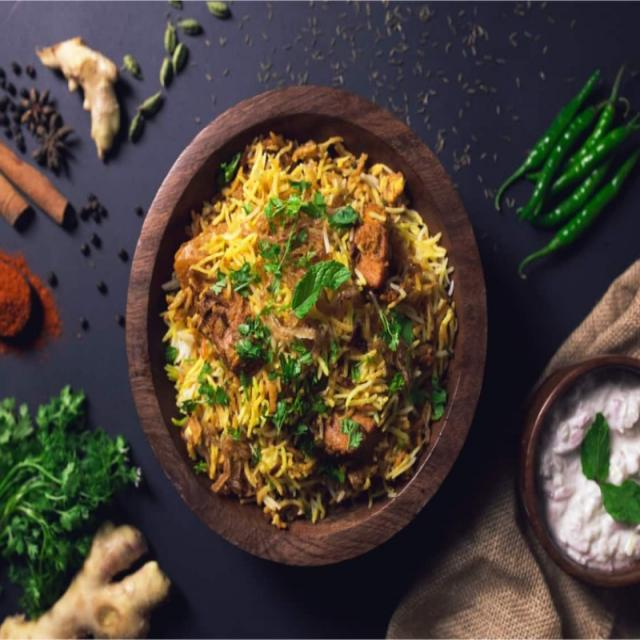Biryani: (155, 120, 453, 538)
